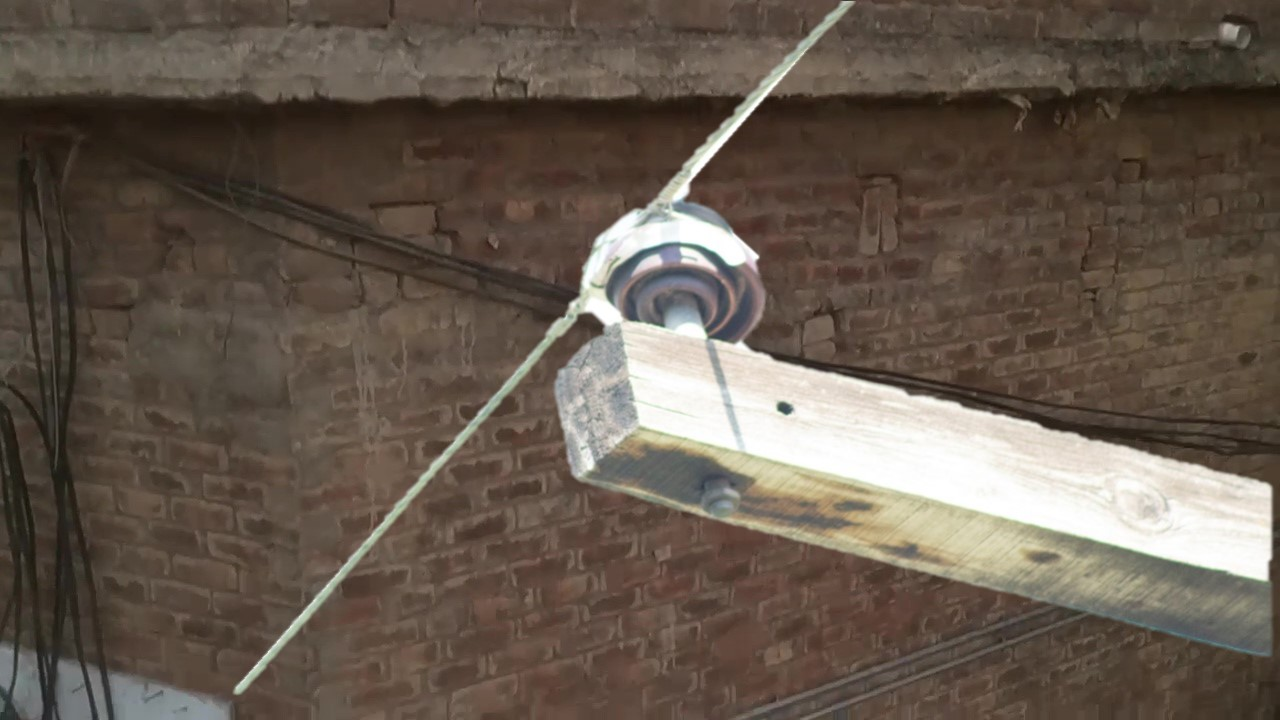defect_pin: (578, 191, 771, 345)
